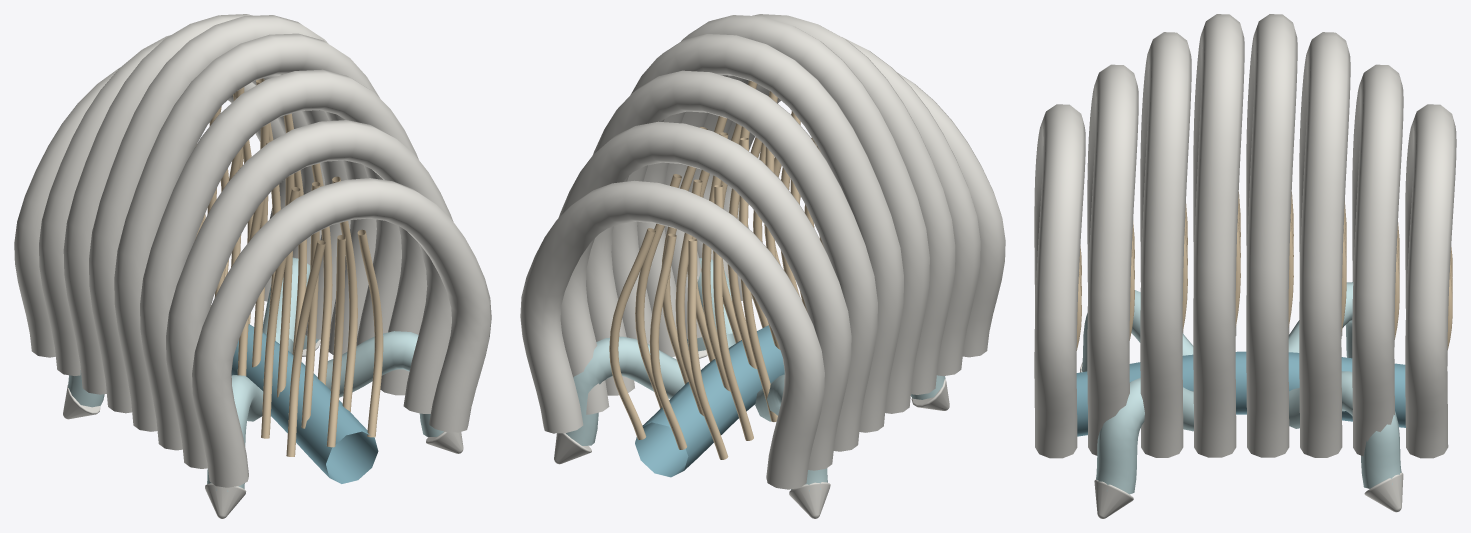
The model's file is bio_blind_harp_05_near.glb.
3 renders of one model, left to right at view 1: azimuth 30°, elevation 25°; view 2: azimuth 150°, elevation 25°; view 3: azimuth 270°, elevation 25°, orthographic. The views are drawn at different scales.
Parts seen in each view (by area): view 1: Open rib arch, Open rib arch.001, Open rib arch.002, Open rib arch.003, Open rib arch.004, Open rib arch.005, Open rib arch.006, Low axial spine, Open rib arch.007, Resonance filament, Resonance filament.003, Resonance filament.006 (+9 smaller); view 2: Open rib arch.007, Open rib arch.006, Open rib arch.005, Open rib arch.004, Open rib arch.003, Open rib arch.002, Open rib arch.001, Low axial spine, Open rib arch, Resonance filament.021, Resonance filament.018, Resonance filament.015 (+9 smaller); view 3: Open rib arch.003, Open rib arch.004, Open rib arch.005, Open rib arch.002, Open rib arch.006, Open rib arch.001, Open rib arch, Open rib arch.007, Crooked support.003, Low axial spine, Crooked support, Contact spur.003 (+7 smaller).
Boxes of the visible parts, x1,y1,x2,y2 form: Open rib arch: [192, 178, 491, 487]; Open rib arch.001: [166, 120, 453, 468]; Open rib arch.002: [140, 69, 427, 450]; Open rib arch.003: [114, 33, 401, 431]; Open rib arch.004: [89, 15, 376, 413]; Open rib arch.005: [63, 14, 350, 394]; Open rib arch.006: [39, 35, 324, 375]; Low axial spine: [231, 324, 378, 483]; Open rib arch.007: [14, 68, 285, 357]; Resonance filament: [286, 229, 383, 456]; Resonance filament.003: [261, 176, 357, 438]; Resonance filament.006: [237, 140, 332, 397]; Open rib arch.007: [520, 180, 824, 489]; Open rib arch.006: [558, 121, 851, 470]; Open rib arch.005: [586, 70, 877, 451]; Open rib arch.004: [611, 34, 903, 432]; Open rib arch.003: [637, 15, 929, 413]; Open rib arch.002: [664, 14, 955, 394]; Open rib arch.001: [689, 37, 980, 376]; Low axial spine: [635, 325, 784, 477]; Open rib arch: [723, 72, 1005, 357]; Resonance filament.021: [609, 228, 728, 459]; Resonance filament.018: [635, 174, 753, 440]; Resonance filament.015: [661, 127, 777, 421]; Open rib arch.003: [1193, 14, 1244, 457]; Open rib arch.004: [1246, 14, 1297, 457]; Open rib arch.005: [1299, 32, 1350, 457]; Open rib arch.002: [1140, 32, 1191, 457]; Open rib arch.006: [1352, 64, 1403, 456]; Open rib arch.001: [1087, 64, 1138, 455]; Open rib arch: [1034, 104, 1085, 458]; Open rib arch.007: [1405, 104, 1456, 458]; Crooked support.003: [1096, 378, 1193, 494]; Low axial spine: [1076, 351, 1405, 436]; Crooked support: [1289, 371, 1401, 488]; Contact spur.003: [1094, 479, 1133, 518].
Size of the model in its own units: 1.69 by 2.21 by 2.
